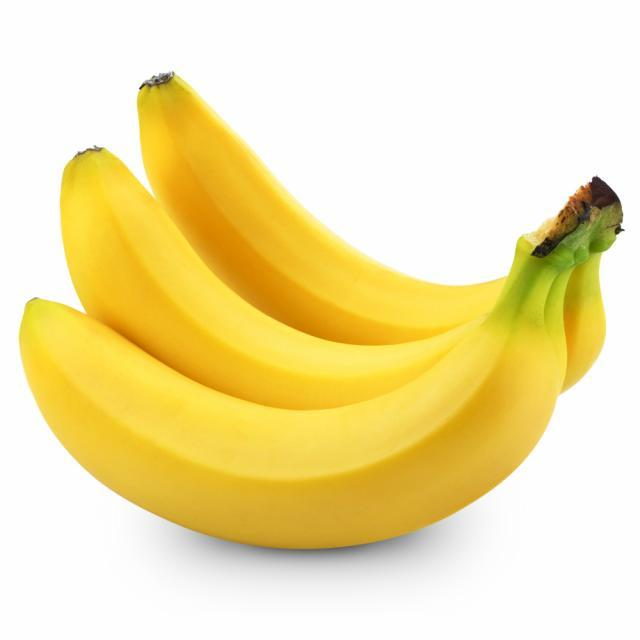banana: (135, 70, 607, 390), (41, 148, 562, 420), (14, 302, 542, 562)
